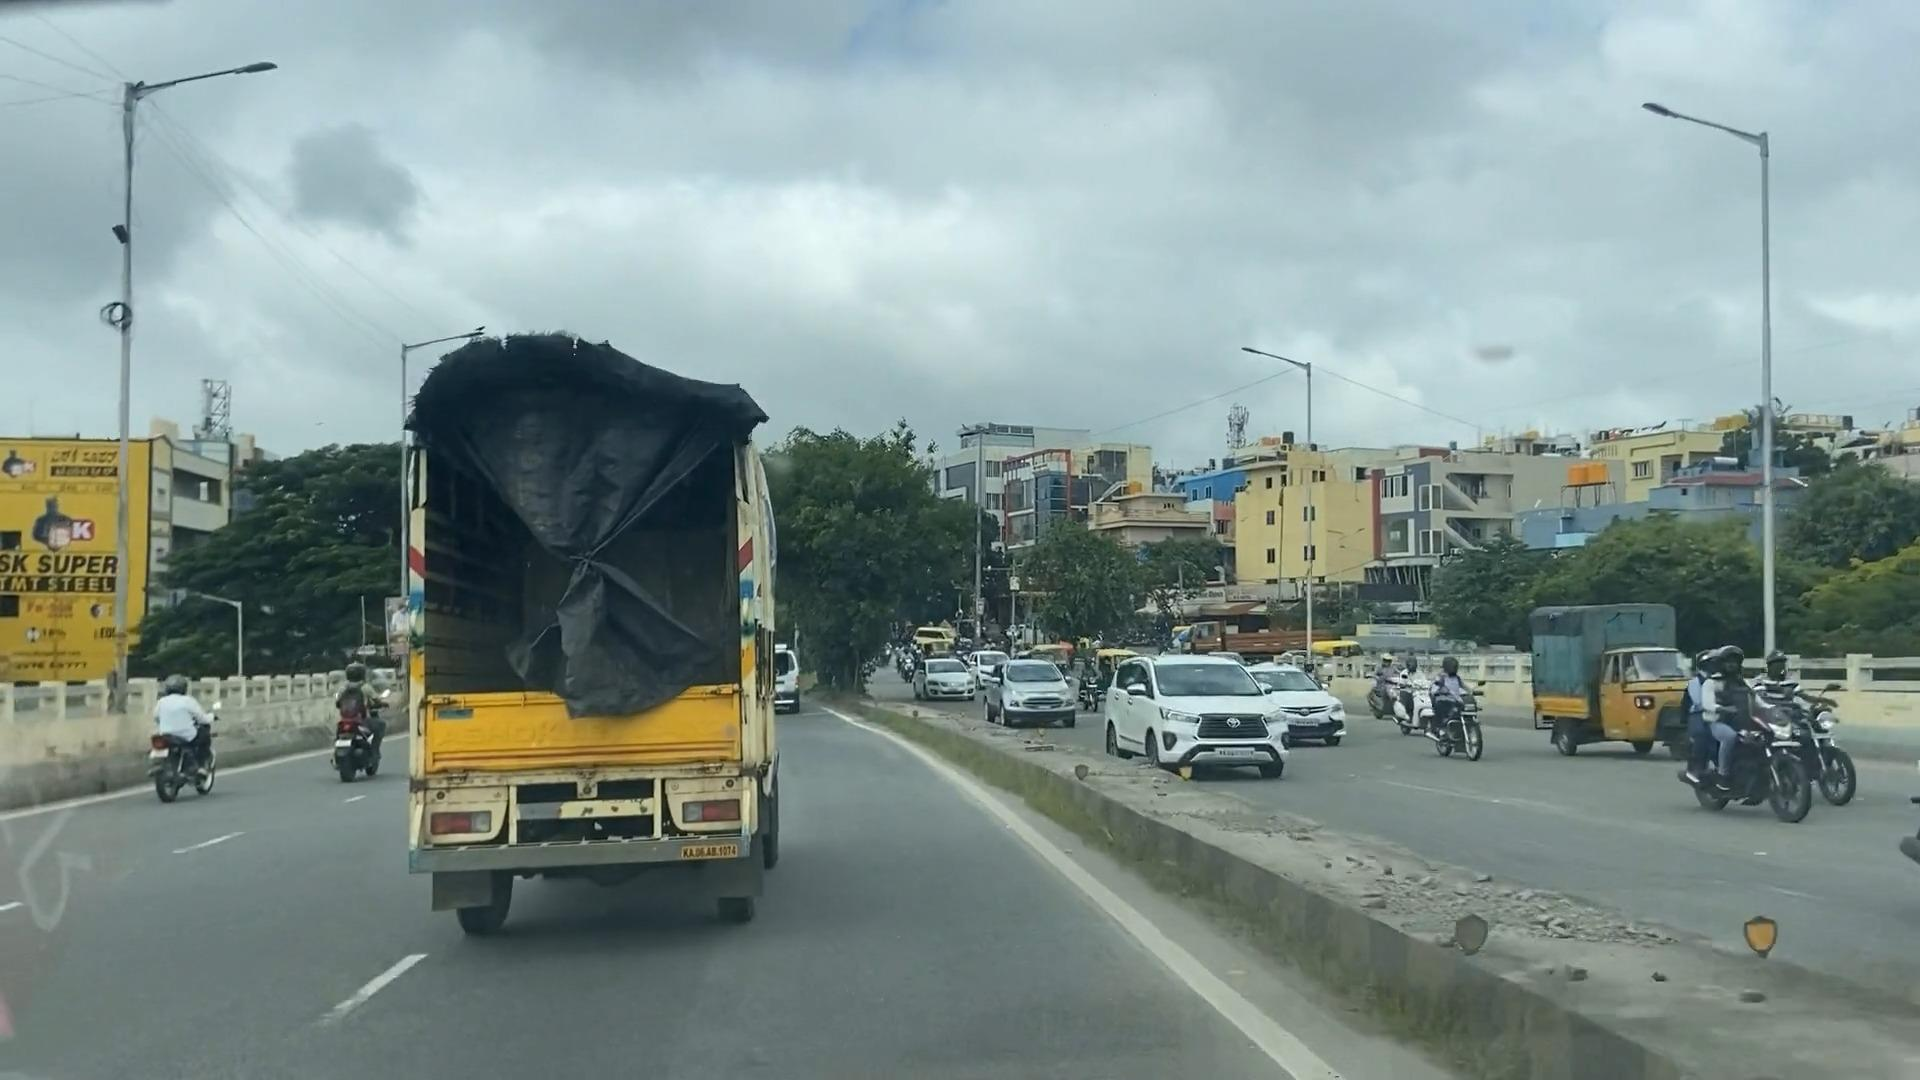HMV: (361, 299, 785, 945)
